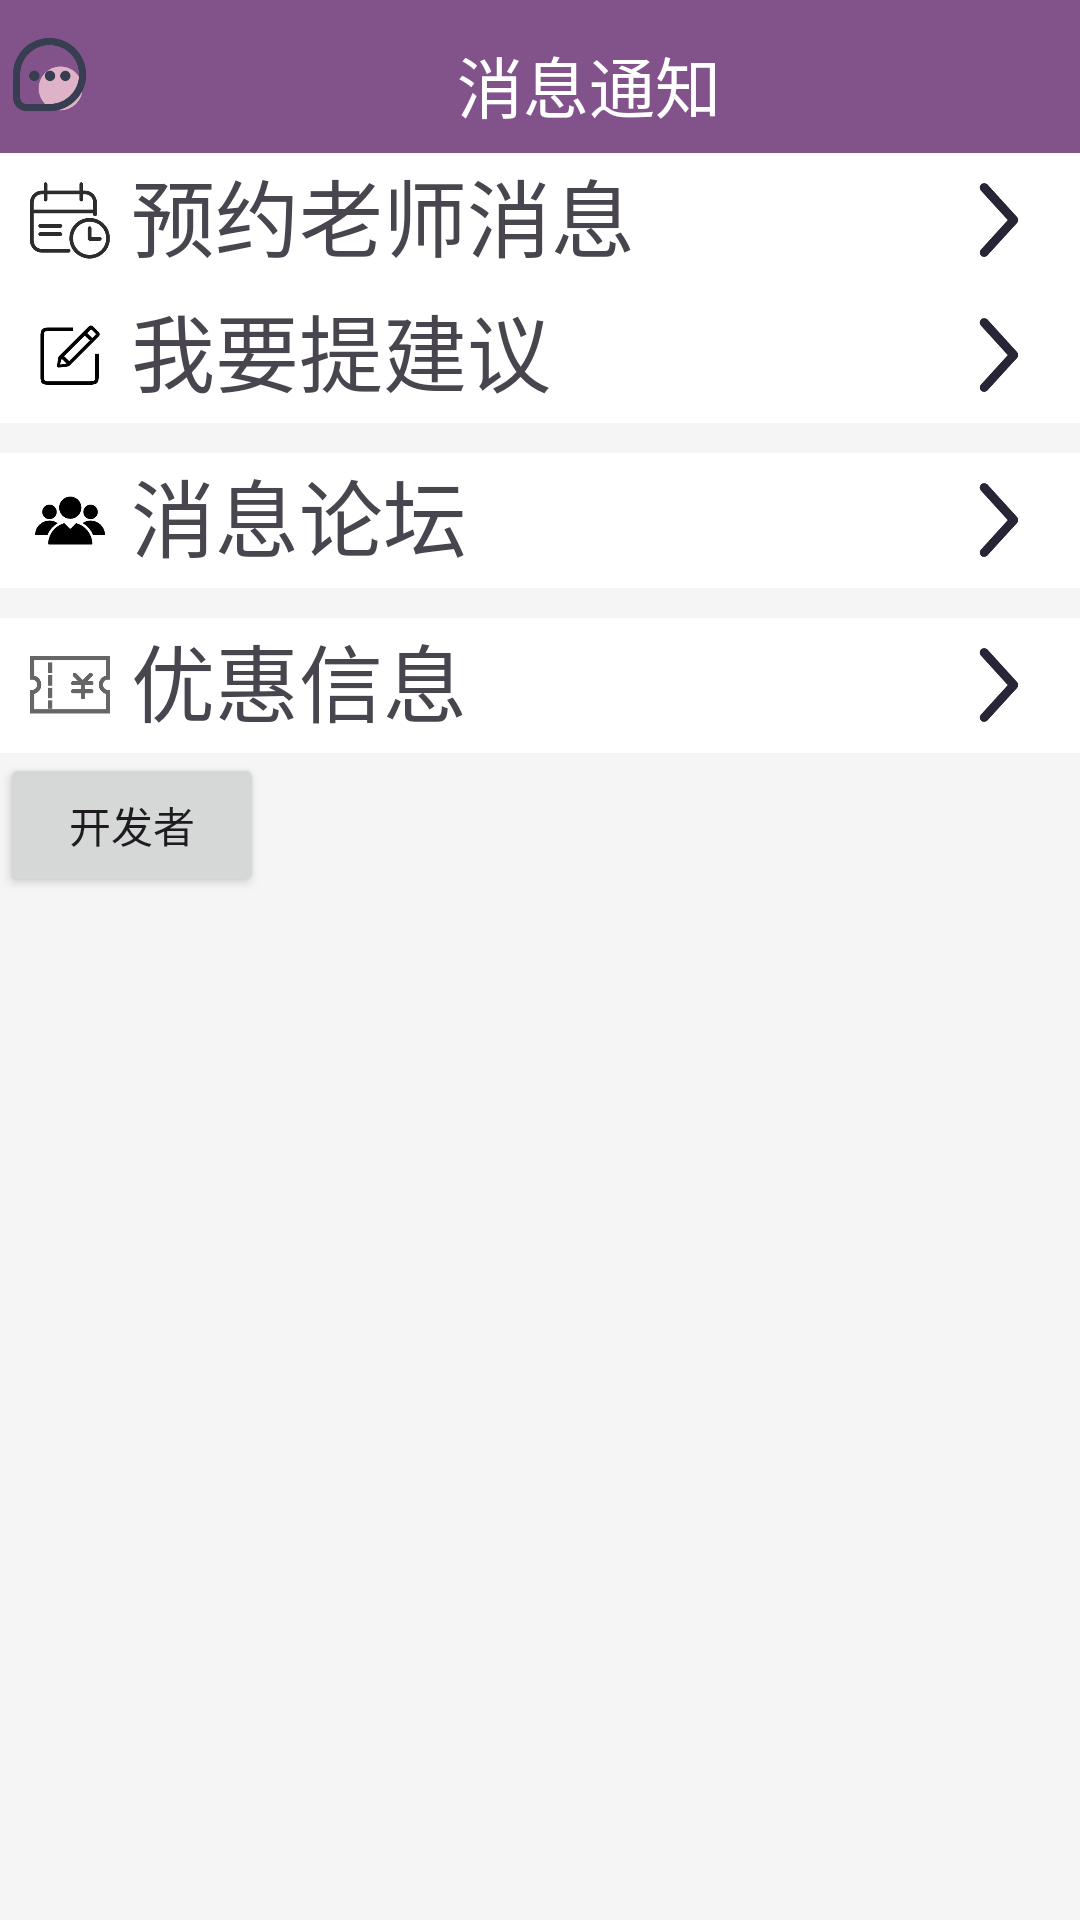

Where to tap for icons on this 1080×1920 app screen, as point (x, y):
yjt: point (998, 220), point (998, 355), point (998, 520), point (998, 685)
